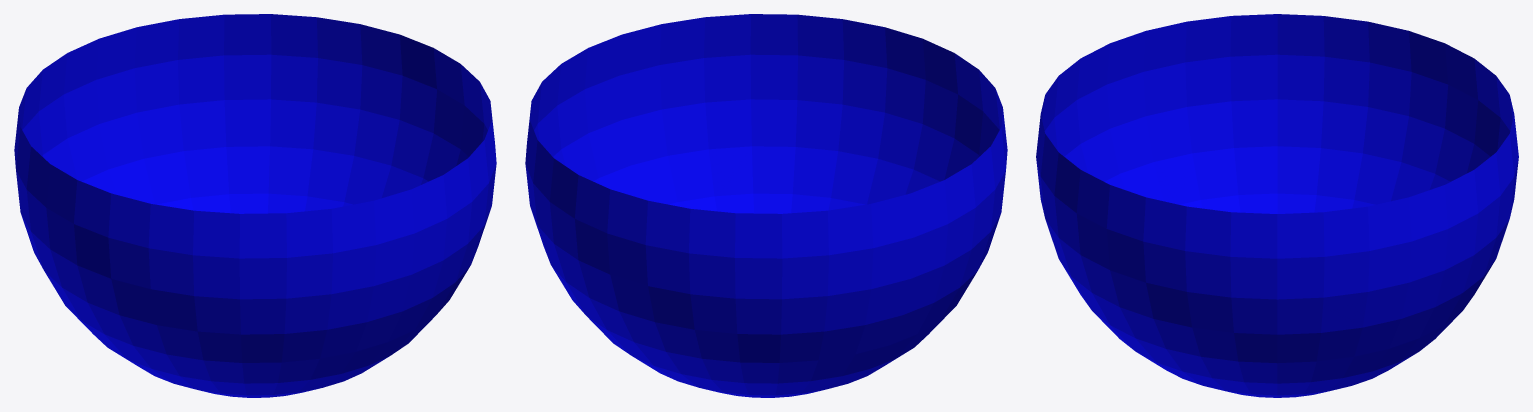
The model's file is bl_sphere_bag_basic_003.obj.
The picture shows the model from 3 angles, left to right: view 1: azimuth 30°, elevation 25°; view 2: azimuth 150°, elevation 25°; view 3: azimuth 270°, elevation 25°; orthographic projection.
Visible parts, largest first — view 1: Sphere.003; view 2: Sphere.003; view 3: Sphere.003.
Boxes of the visible parts, left/top/right/bottom form: Sphere.003: left=14, top=14, right=496, bottom=397; Sphere.003: left=525, top=14, right=1007, bottom=397; Sphere.003: left=1036, top=14, right=1518, bottom=397.
Size of the model in its own units: 1.6 by 0.9561 by 1.6.
